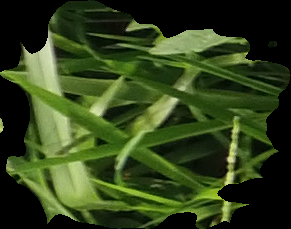grass: (1, 1, 289, 228)
